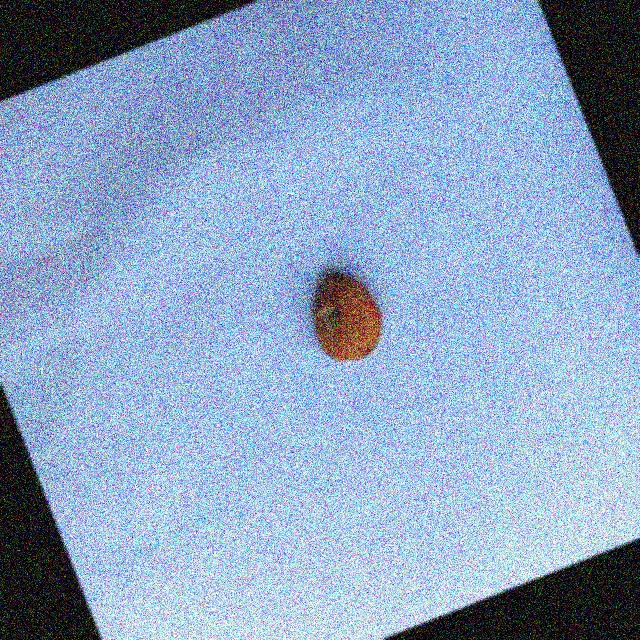grade3: (291, 257, 397, 377)
